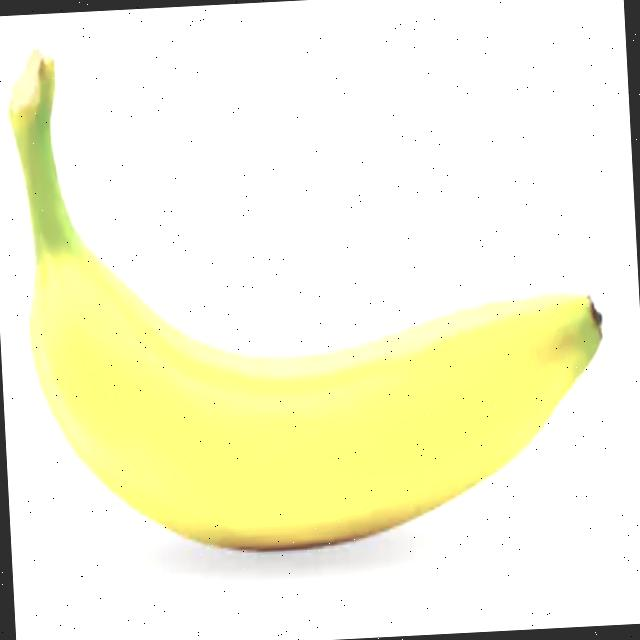Ripe: (0, 19, 624, 571)
